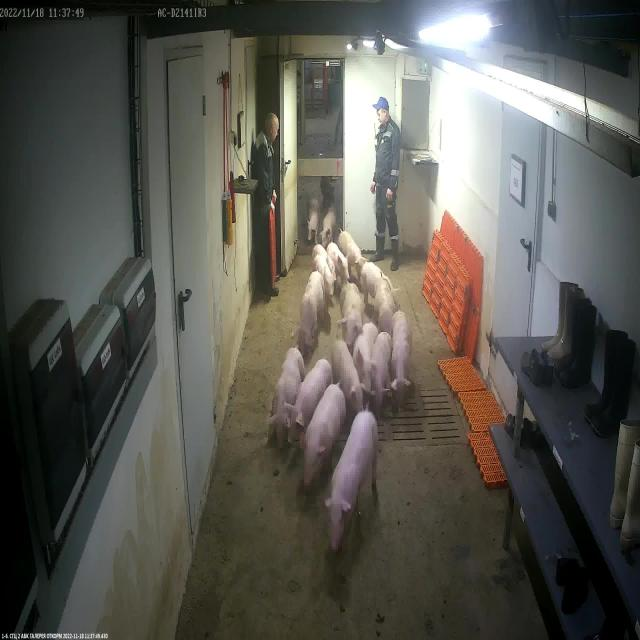pig: (327, 410, 379, 550), (300, 385, 346, 486), (284, 360, 332, 443), (268, 348, 304, 449), (333, 341, 366, 411), (298, 271, 324, 348), (354, 323, 378, 390), (337, 283, 361, 347), (372, 332, 393, 405), (392, 311, 411, 391), (362, 262, 394, 304), (374, 276, 396, 334), (338, 232, 364, 277), (312, 245, 336, 281), (312, 256, 334, 295), (327, 243, 350, 279), (320, 208, 336, 246), (306, 200, 318, 244)
